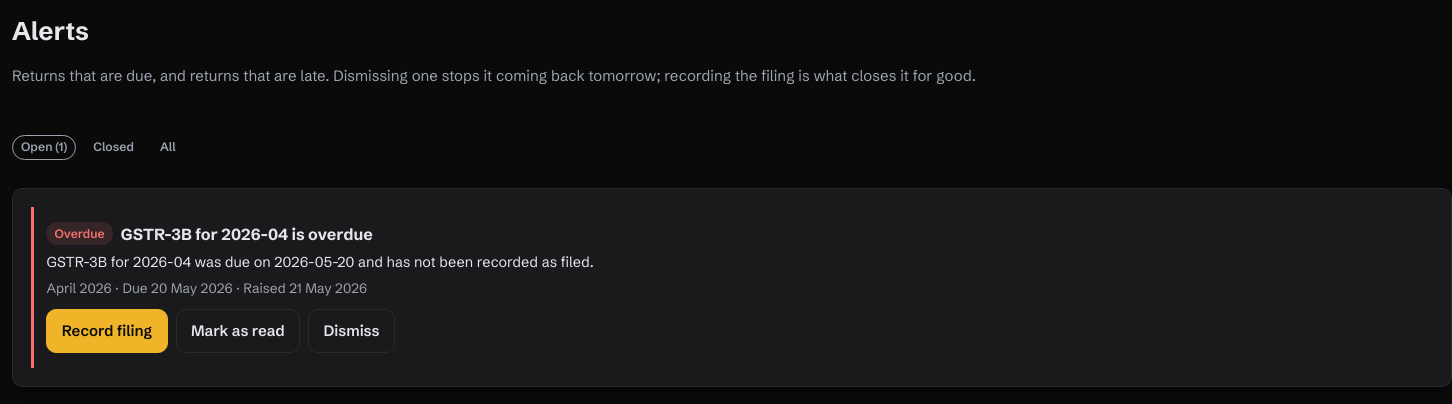
AlertsPage › dismisses an alert and takes it off the open list
Click the button "Dismiss".
click(352, 331)  # box [308,309,395,353]
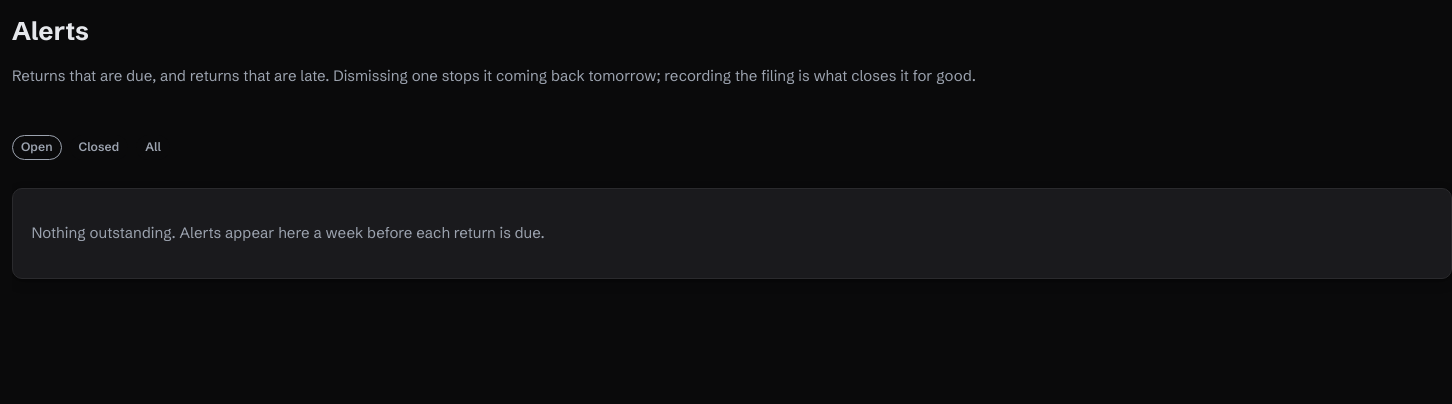
expect the heading "GSTR-3B for 2026-04 is overdue" is gone: met
